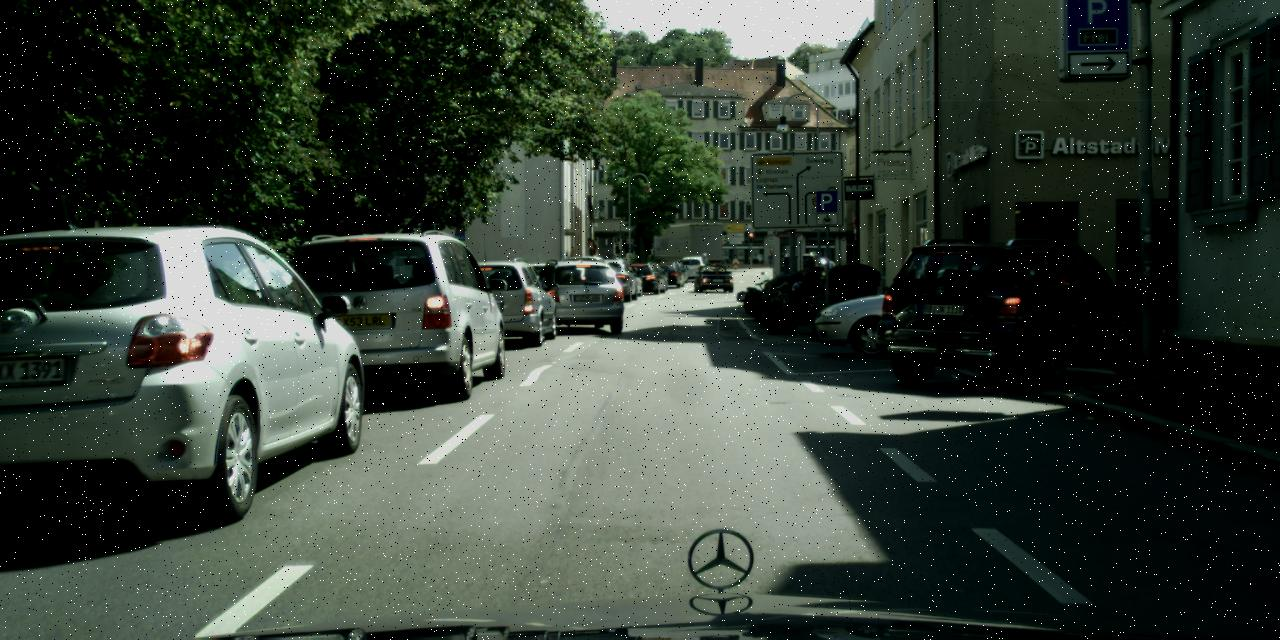ped: (767, 249, 774, 267)
